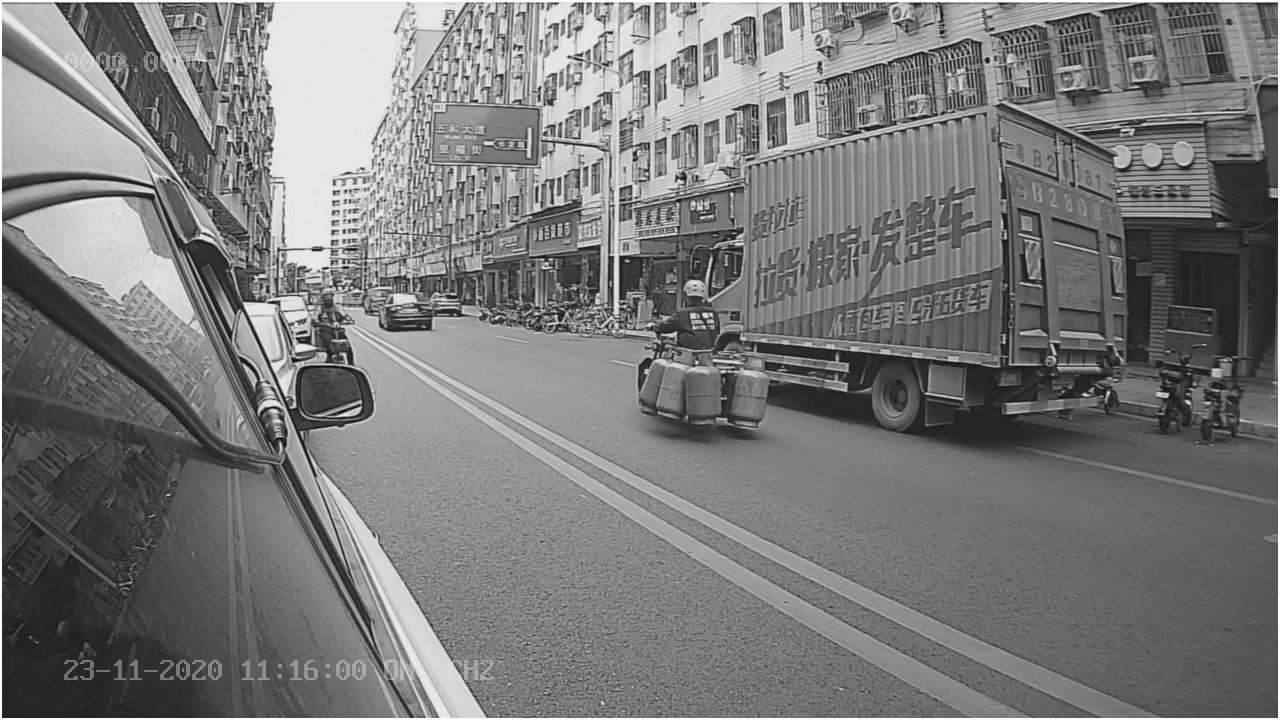person: (657, 278, 725, 349)
